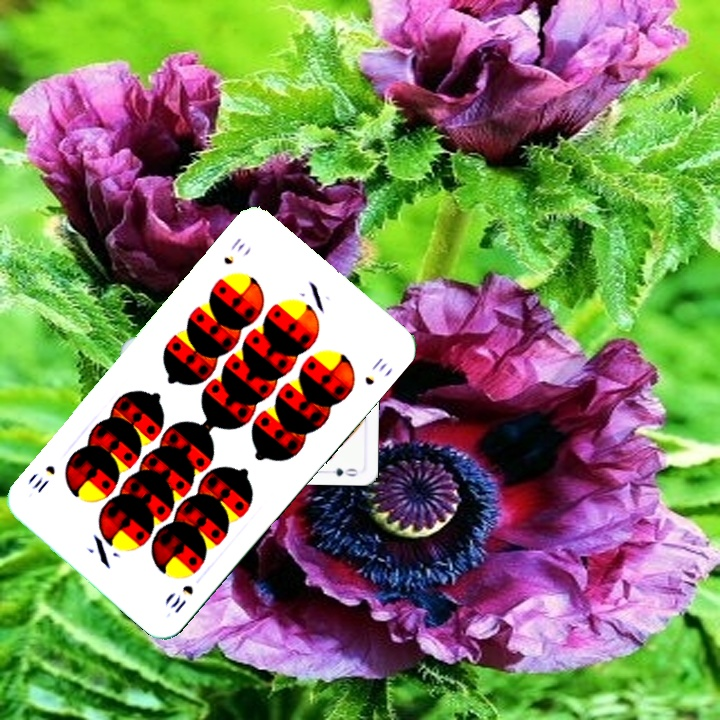S10: (166, 581, 196, 616), (219, 233, 248, 268)
